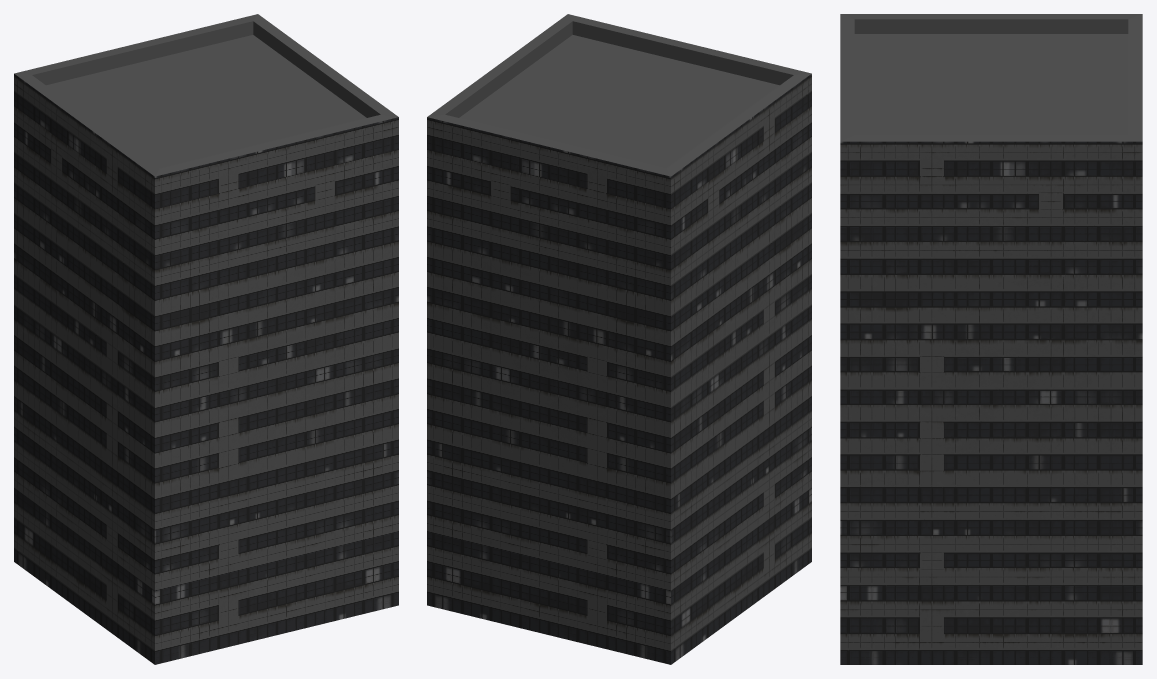
File: Mesh_Residential-Small.fbx
3 renders of one model, left to right at view 1: azimuth 30°, elevation 25°; view 2: azimuth 150°, elevation 25°; view 3: azimuth 270°, elevation 25°, orthographic. The views are drawn at different scales.
Visible parts, largest first — view 1: Mesh_Residential-Small; view 2: Mesh_Residential-Small; view 3: Mesh_Residential-Small.
Part boxes in pixels (bbox=[...]): Mesh_Residential-Small: bbox=[14, 14, 398, 664]; Mesh_Residential-Small: bbox=[427, 14, 811, 664]; Mesh_Residential-Small: bbox=[840, 14, 1142, 664].
Size of the model in its own units: 20 by 38.28 by 20.
